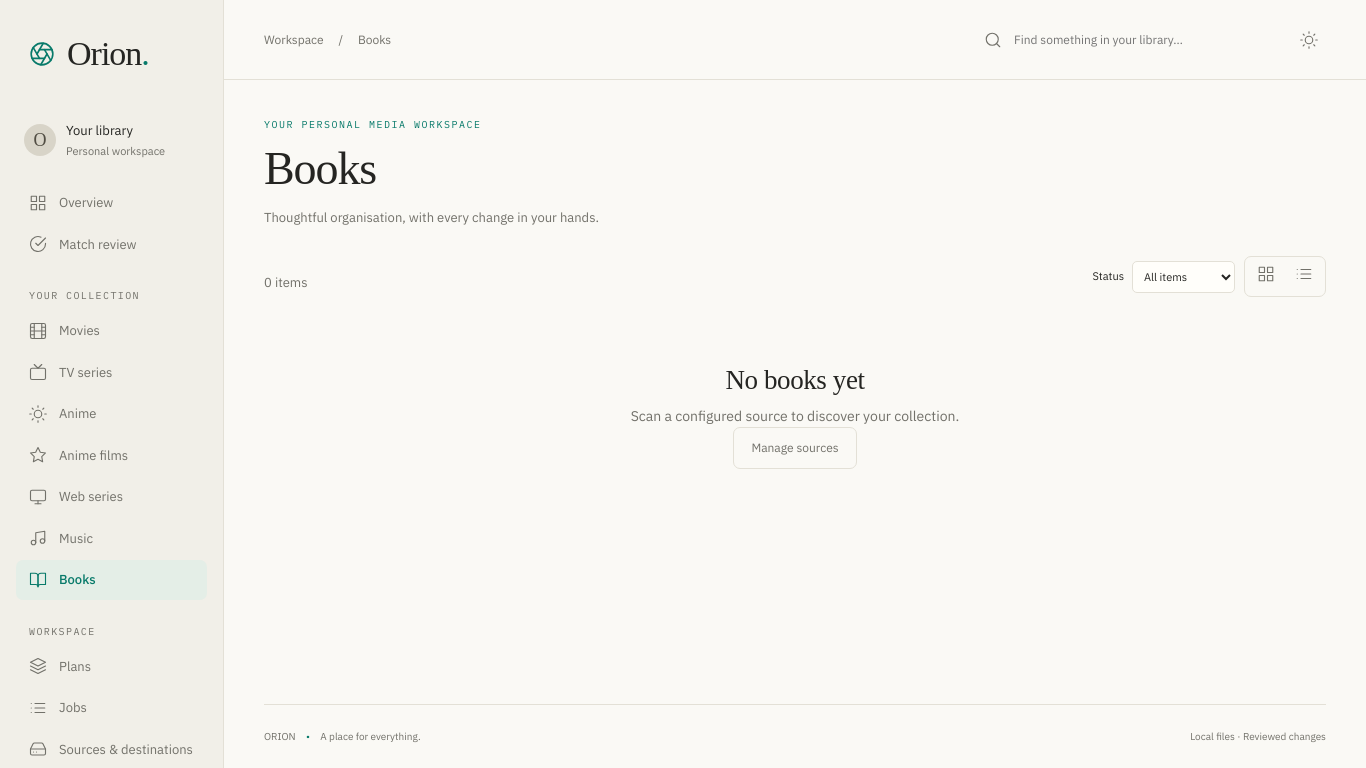
Test: empty collection distinguishes no matching search results
The image size is (1366, 768).
Expected: the heading "No books yet" is shown, [725,365,865,395]
Type "missing" into the search field named "Search library".
click(1142, 40); type("missing")  # box [1012,30,1272,50]
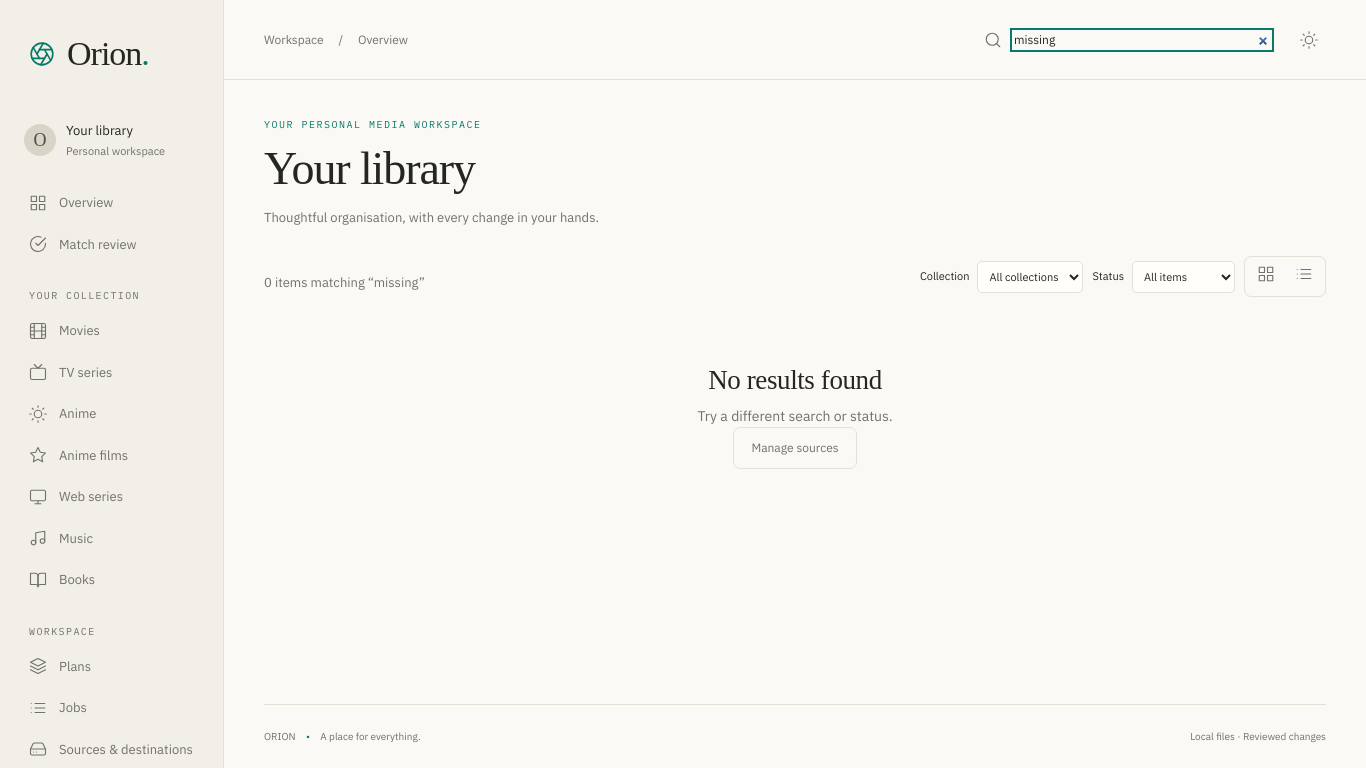
Expected: the heading "No results found" is shown, [708,365,882,395]
